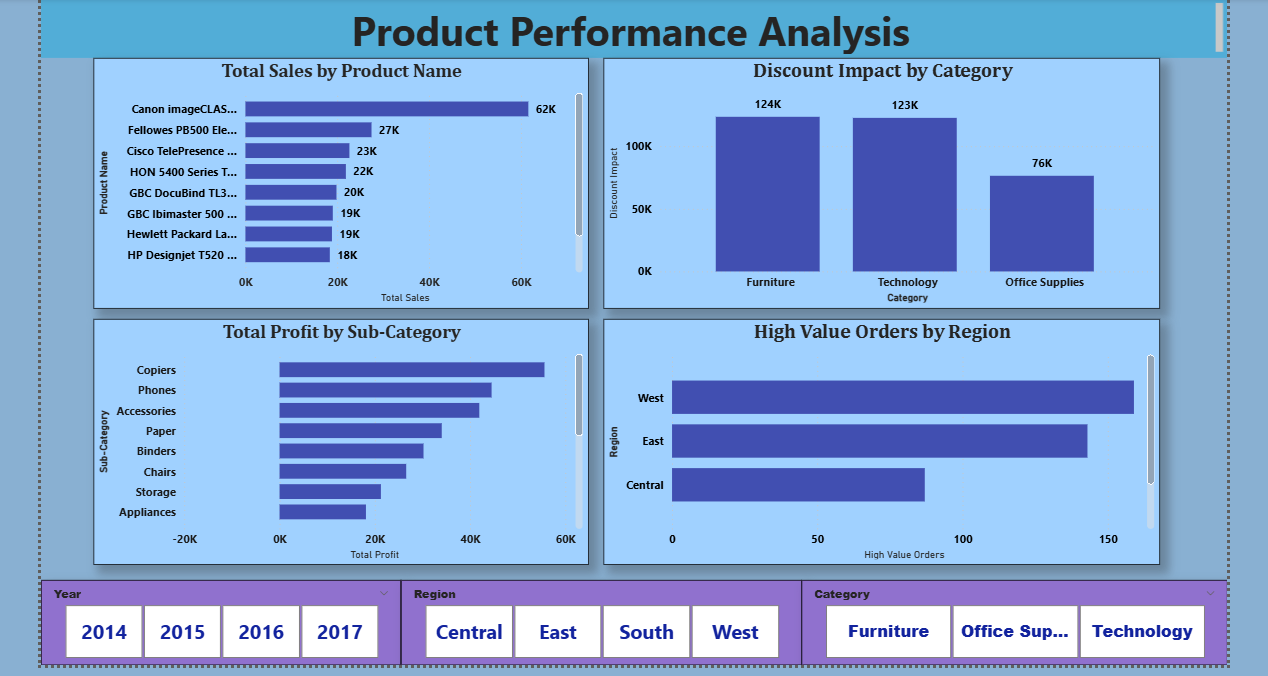

The page's visual inventory and layout, read from the dashboard file:
{"tool":"powerbi","page":{"name":"Product_analysis","canvas":[1280,720],"ordinal":1},"visuals":[{"type":"textbox","box":[0,0,1280.8,64.8],"z":0},{"type":"barChart","fields":{"Category":["Orders.Product Name"],"Y":["Orders.Total Sales"]},"box":[56.7,64.8,534.3,270.4],"z":1000},{"type":"clusteredBarChart","fields":{"Category":["Orders.Sub-Category"],"Y":["Orders.Total Profit"]},"box":[56.7,346.5,534.3,265.6],"z":2000},{"type":"clusteredColumnChart","fields":{"Category":["Orders.Category"],"Y":["Orders.Discount Impact"]},"box":[607.2,64.8,600.7,270.4],"z":3000},{"type":"clusteredBarChart","fields":{"Category":["Orders.Region"],"Y":["Orders.High Value Orders"]},"box":[607.2,346.5,600.7,265.6],"z":4000},{"type":"slicer","fields":{"Values":["Orders.Order Date.Variation.Date Hierarchy.Year"]},"box":[0,628.3,388.6,92.3],"z":5000},{"type":"slicer","fields":{"Values":["Orders.Region"]},"box":[388.6,628.3,432.3,92.3],"z":5001},{"type":"slicer","fields":{"Values":["Orders.Category"]},"box":[820.9,628.3,459.9,92.3],"z":5002}]}

Visuals, with their boxes in screenshot pixels (x1, y1, x2, y2):
textbox: crop(36, 0, 1224, 57)
barChart - Orders.Product Name x Orders.Total Sales: crop(89, 57, 584, 307)
clusteredBarChart - Orders.Sub-Category x Orders.Total Profit: crop(89, 318, 584, 564)
clusteredColumnChart - Orders.Category x Orders.Discount Impact: crop(599, 57, 1156, 307)
clusteredBarChart - Orders.Region x Orders.High Value Orders: crop(599, 318, 1156, 564)
slicer - Orders.Order Date.Variation.Date Hierarchy.Year: crop(36, 579, 397, 665)
slicer - Orders.Region: crop(397, 579, 797, 665)
slicer - Orders.Category: crop(797, 579, 1224, 665)
